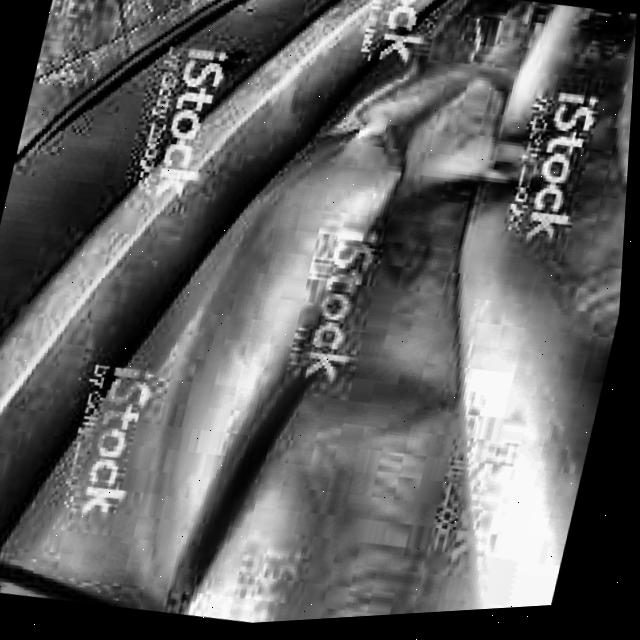door_dent: (119, 23, 537, 631)
